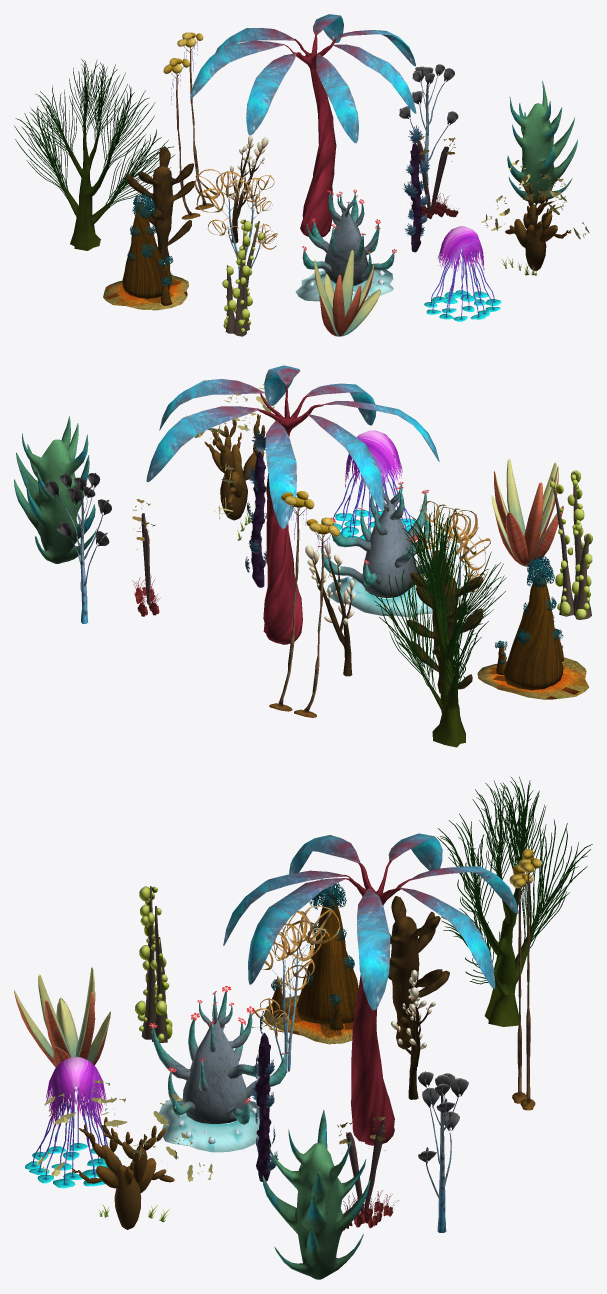
File: Cartoon_Seaweed2 demo.FBX
The picture shows the model from 3 angles, top to bottom: view 1: azimuth 30°, elevation 25°; view 2: azimuth 150°, elevation 25°; view 3: azimuth 270°, elevation 25°; orthographic projection. The views are drawn at different scales.
Parts seen in each view (by area): view 1: Cartoon_Seaweed2_1, Cartoon_Seaweed2_3, Cartoon_Seaweed2_9, Cartoon_Seaweed2_4, Cartoon_Seaweed2_13, Cartoon_Seaweed2_11, Cartoon_Seaweed2_12, Cartoon_Seaweed2_10, Cartoon_Seaweed2_5, Cartoon_Seaweed2_6, Cartoon_Seaweed2_7, Cartoon_Seaweed2_14 (+4 smaller); view 2: Cartoon_Seaweed2_1, Cartoon_Seaweed2_3, Cartoon_Seaweed2_9, Cartoon_Seaweed2_4, Cartoon_Seaweed2_13, Cartoon_Seaweed2_10, Cartoon_Seaweed2_6, Cartoon_Seaweed2_12, Cartoon_Seaweed2_11, Cartoon_Seaweed2_2, Cartoon_Seaweed2_5, Cartoon_Seaweed2_16 (+4 smaller); view 3: Cartoon_Seaweed2_1, Cartoon_Seaweed2_3, Cartoon_Seaweed2_9, Cartoon_Seaweed2_13, Cartoon_Seaweed2_4, Cartoon_Seaweed2_12, Cartoon_Seaweed2_11, Cartoon_Seaweed2_5, Cartoon_Seaweed2_10, Cartoon_Seaweed2_7, Cartoon_Seaweed2_6, Cartoon_Seaweed2_16 (+4 smaller).
Boxes of the visible parts, box(x1,y1,x2,y2) form: Cartoon_Seaweed2_1: box(190, 14, 416, 237); Cartoon_Seaweed2_3: box(14, 58, 175, 250); Cartoon_Seaweed2_9: box(295, 189, 396, 302); Cartoon_Seaweed2_4: box(103, 193, 188, 310); Cartoon_Seaweed2_13: box(507, 81, 577, 203); Cartoon_Seaweed2_11: box(424, 226, 501, 321); Cartoon_Seaweed2_12: box(481, 160, 589, 275); Cartoon_Seaweed2_10: box(314, 250, 380, 336); Cartoon_Seaweed2_5: box(126, 146, 195, 262); Cartoon_Seaweed2_6: box(222, 219, 264, 336); Cartoon_Seaweed2_7: box(194, 169, 277, 278); Cartoon_Seaweed2_14: box(402, 125, 429, 252); Cartoon_Seaweed2_1: box(146, 365, 439, 644); Cartoon_Seaweed2_3: box(368, 503, 506, 747); Cartoon_Seaweed2_9: box(318, 482, 447, 617); Cartoon_Seaweed2_4: box(477, 556, 589, 699); Cartoon_Seaweed2_13: box(14, 416, 96, 563); Cartoon_Seaweed2_10: box(491, 459, 563, 566); Cartoon_Seaweed2_6: box(550, 470, 592, 619); Cartoon_Seaweed2_12: box(185, 376, 274, 540); Cartoon_Seaweed2_11: box(333, 430, 414, 540); Cartoon_Seaweed2_2: box(269, 491, 339, 717); Cartoon_Seaweed2_5: box(407, 550, 483, 693); Cartoon_Seaweed2_16: box(44, 473, 111, 623); Cartoon_Seaweed2_1: box(223, 833, 518, 1145); Cartoon_Seaweed2_3: box(437, 776, 592, 1026); Cartoon_Seaweed2_9: box(149, 986, 288, 1152); Cartoon_Seaweed2_13: box(262, 1110, 370, 1279); Cartoon_Seaweed2_4: box(264, 879, 358, 1044); Cartoon_Seaweed2_12: box(37, 1079, 212, 1229); Cartoon_Seaweed2_11: box(25, 1057, 118, 1188); Cartoon_Seaweed2_5: box(388, 896, 449, 1049); Cartoon_Seaweed2_10: box(14, 967, 110, 1067); Cartoon_Seaweed2_7: box(248, 905, 340, 1073); Cartoon_Seaweed2_6: box(135, 886, 172, 1042); Cartoon_Seaweed2_16: box(418, 1071, 468, 1232).
Size of the model in its own units: 2180 by 911 by 1699.
